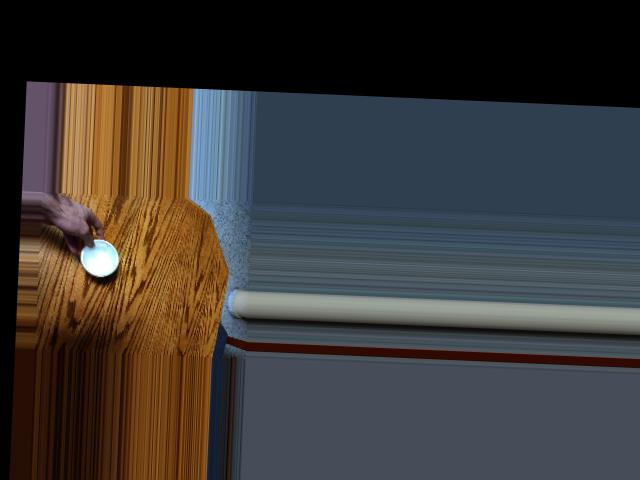cotage: (77, 236, 119, 277)
